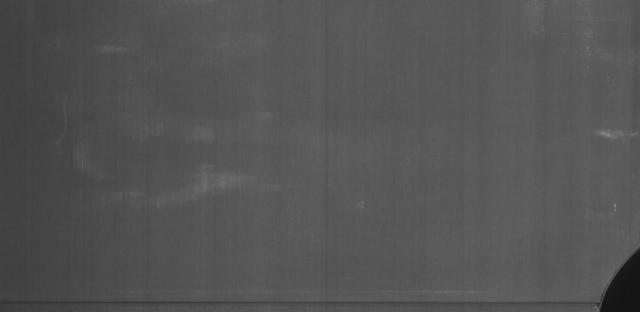welding_line: (1, 295, 617, 310)
